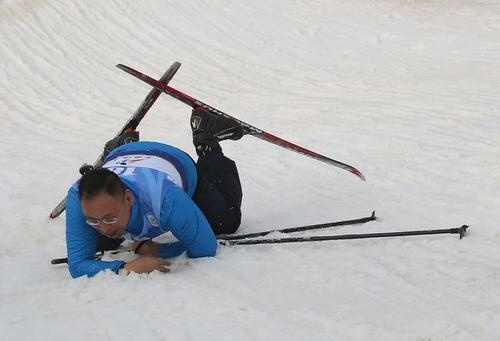falling: (41, 87, 263, 288)
